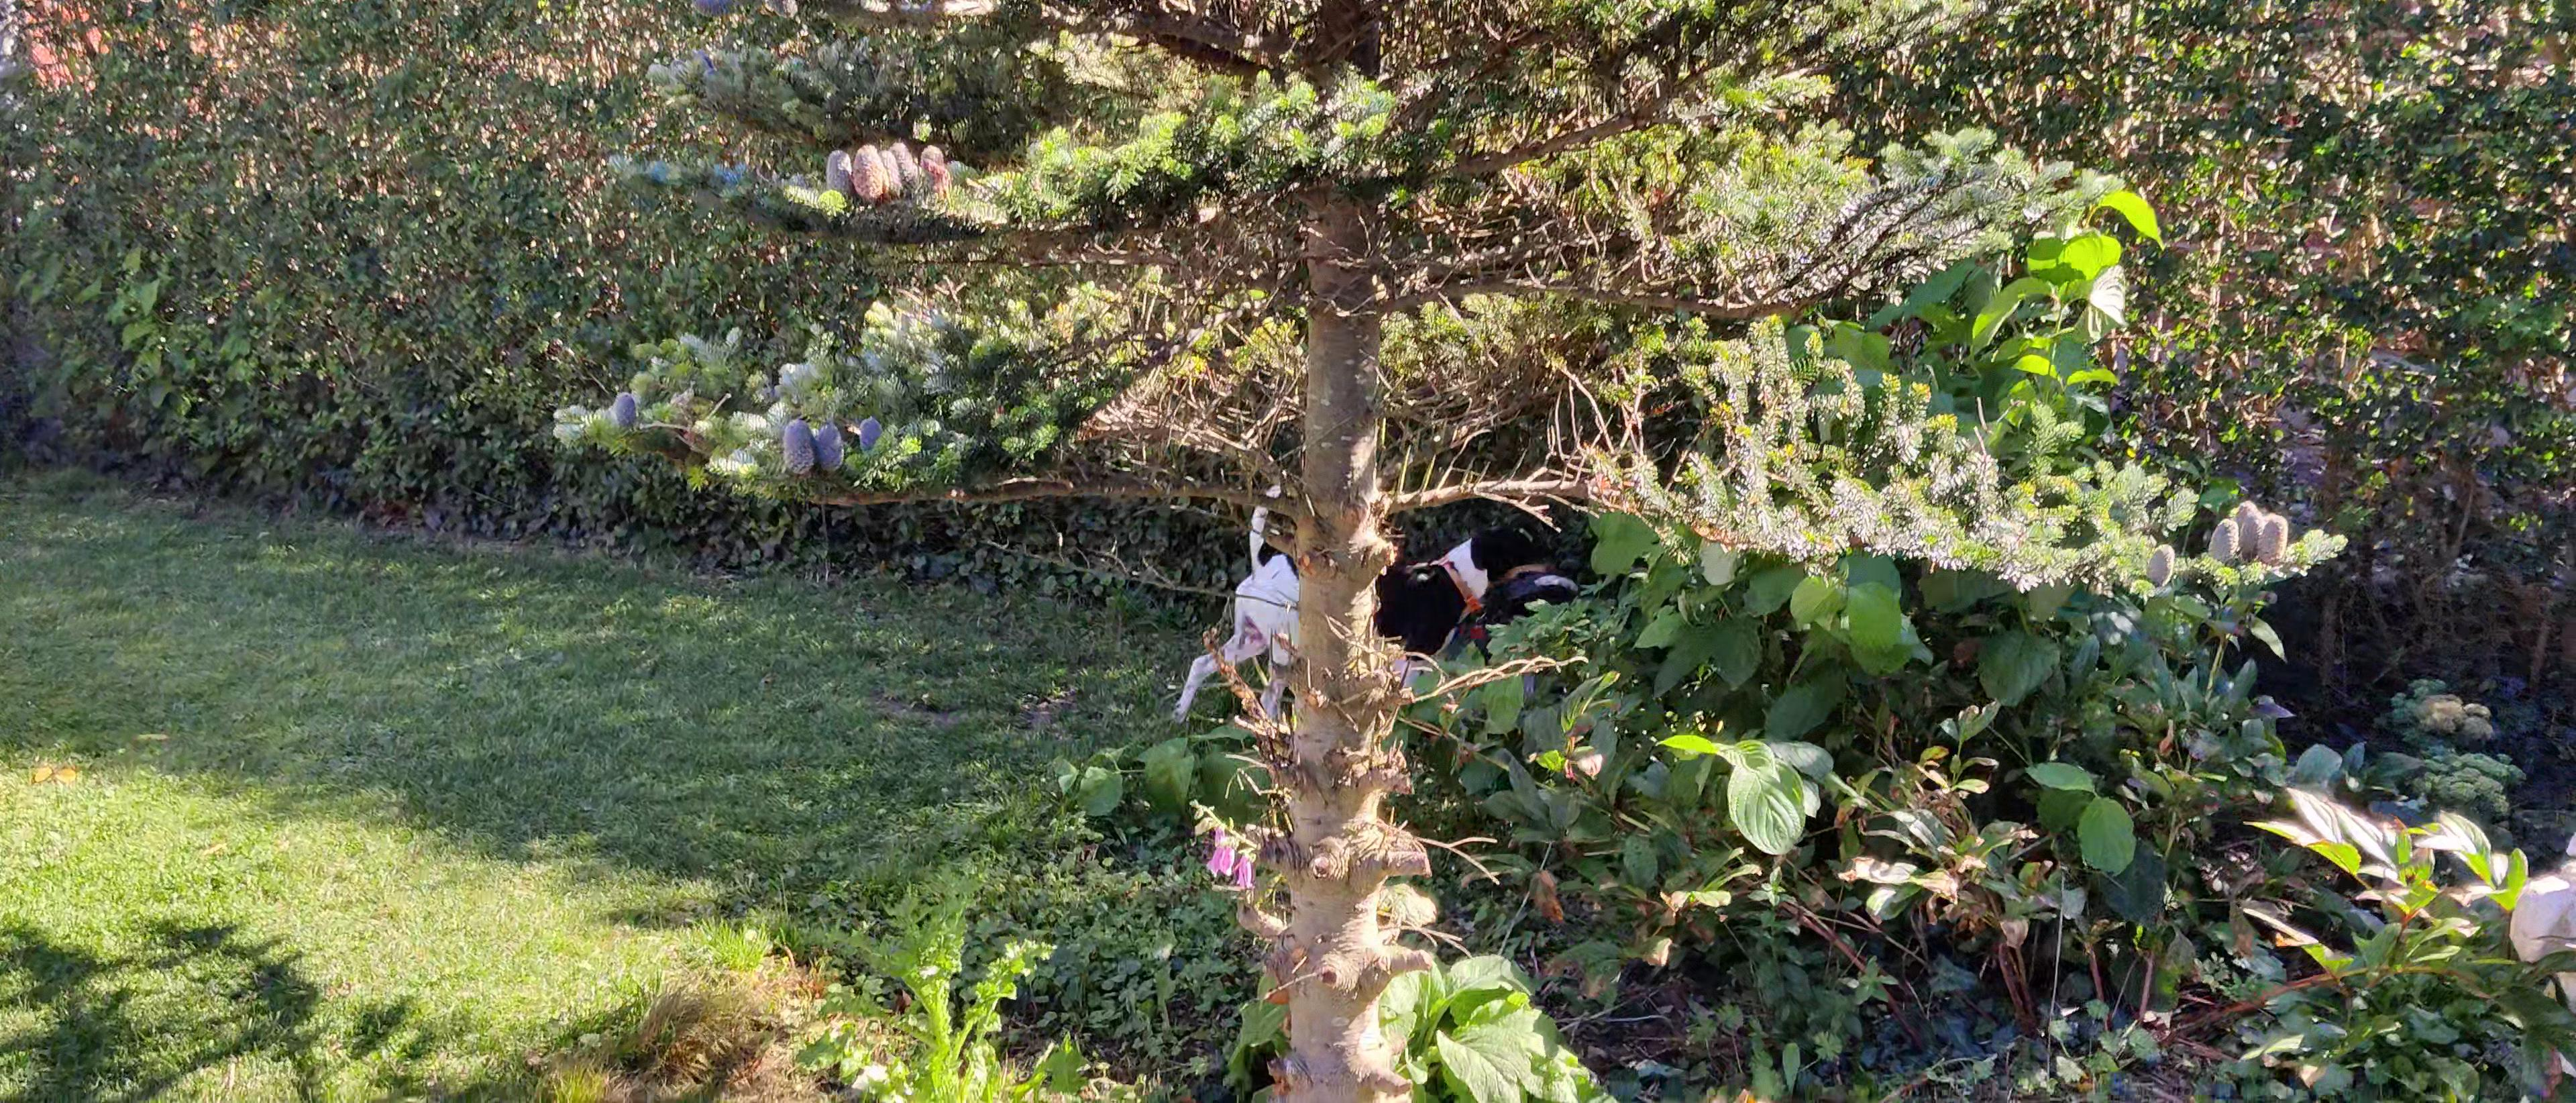Dog: (1168, 477, 1579, 725)
